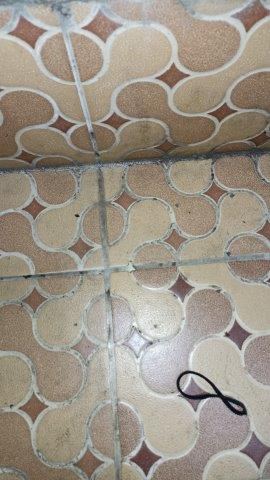karet: (177, 370, 247, 416)
